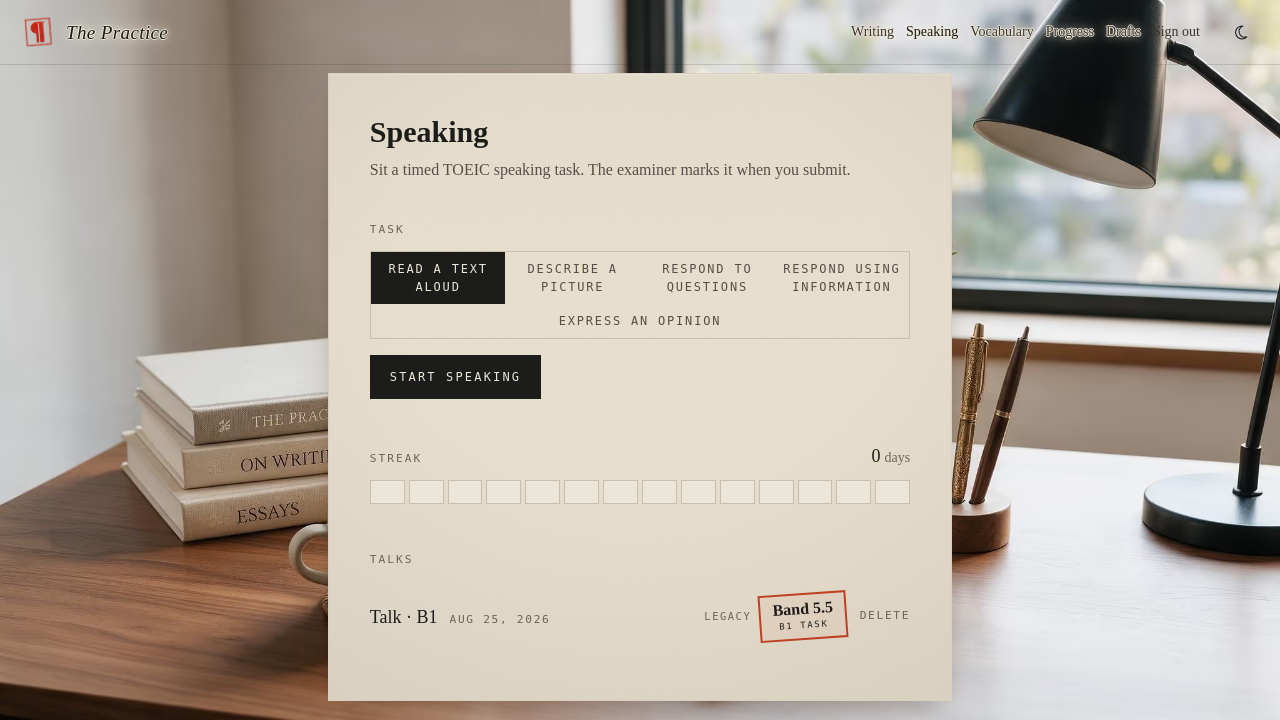
it: SpeakingPage › deletes a talk after confirming
The width and height of the screenshot is (1280, 720).
What coordinates should you click on to do the following:
click the button with aria-label "Delete this talk"
I would click on:
 (885, 617)
Its box is [860, 608, 910, 625].
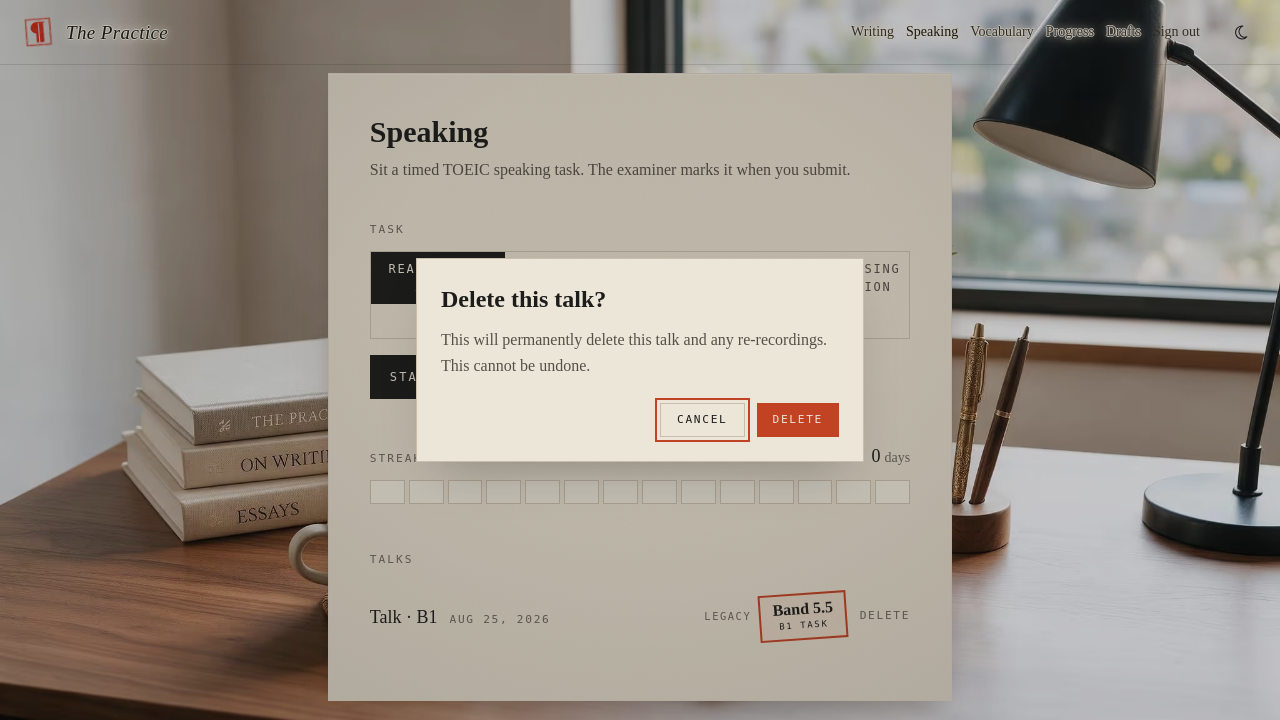
What coordinates should you click on to do the following:
click the button "Delete"
I would click on:
 (798, 420)
Its box is [756, 403, 839, 437].
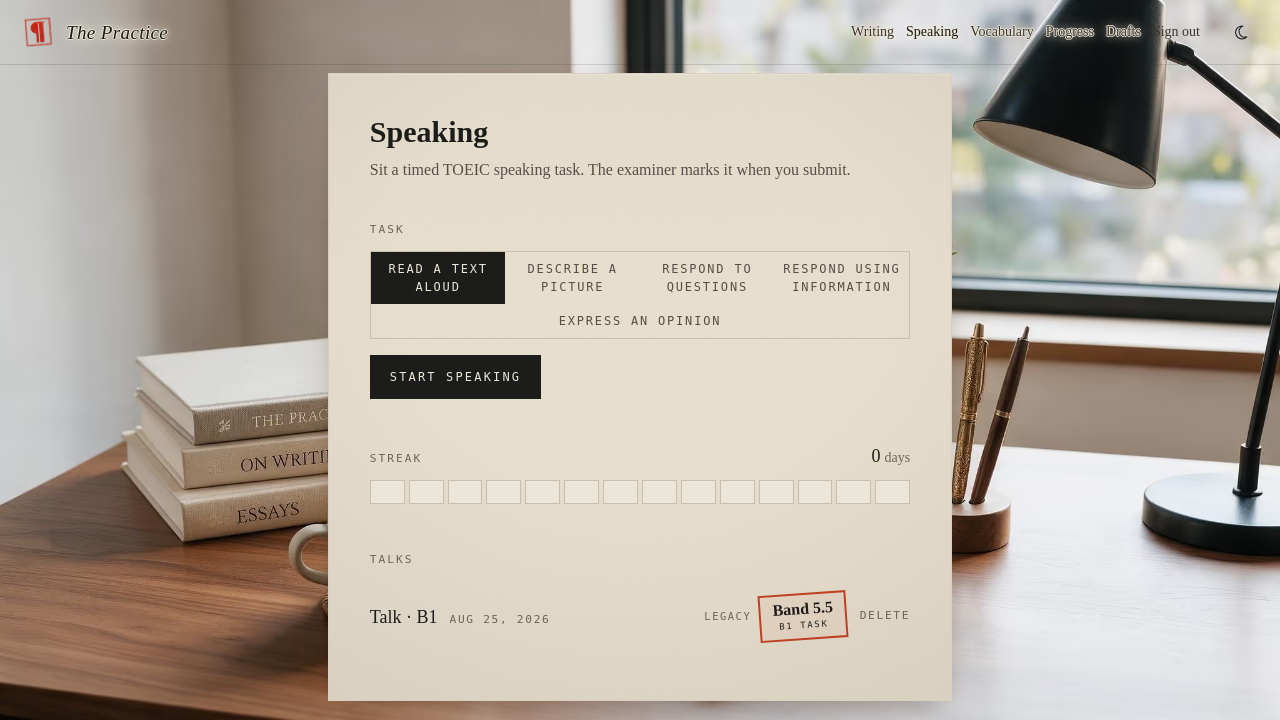
Check: the dialog is gone
